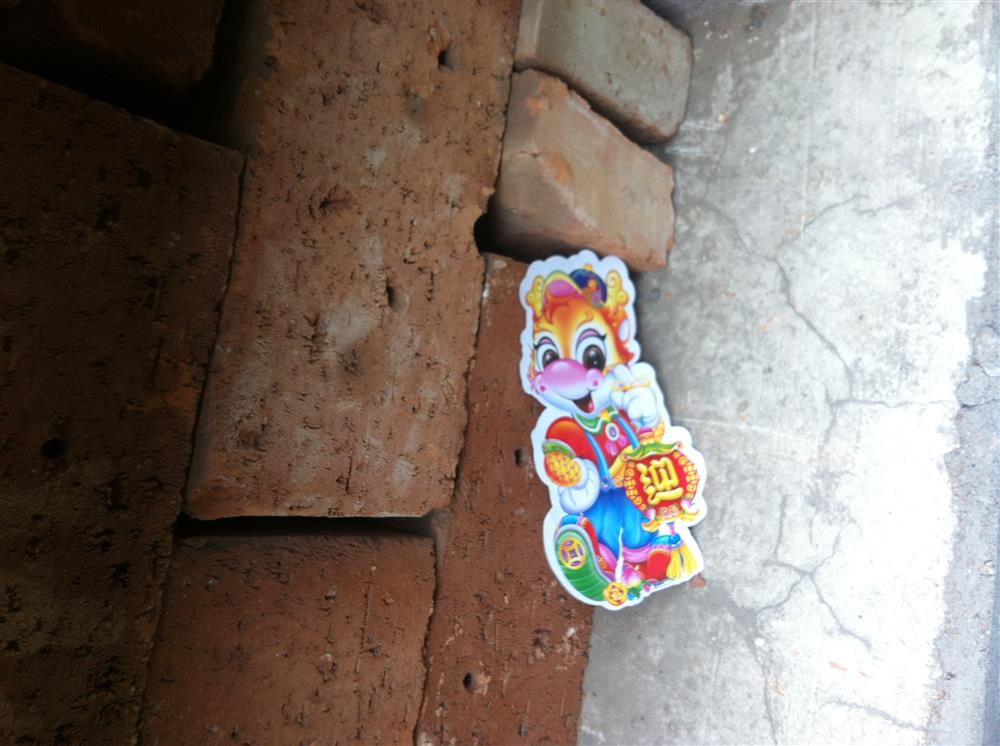new_year_pic: (515, 244, 708, 611)
